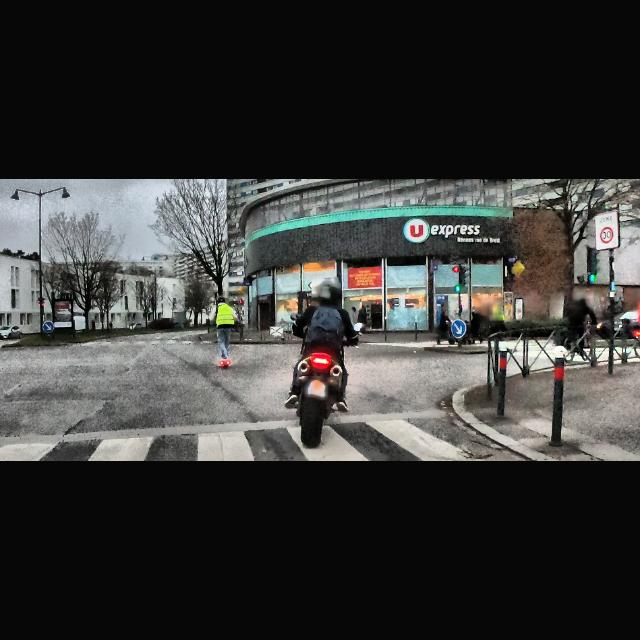speed_30: (599, 226, 614, 244)
